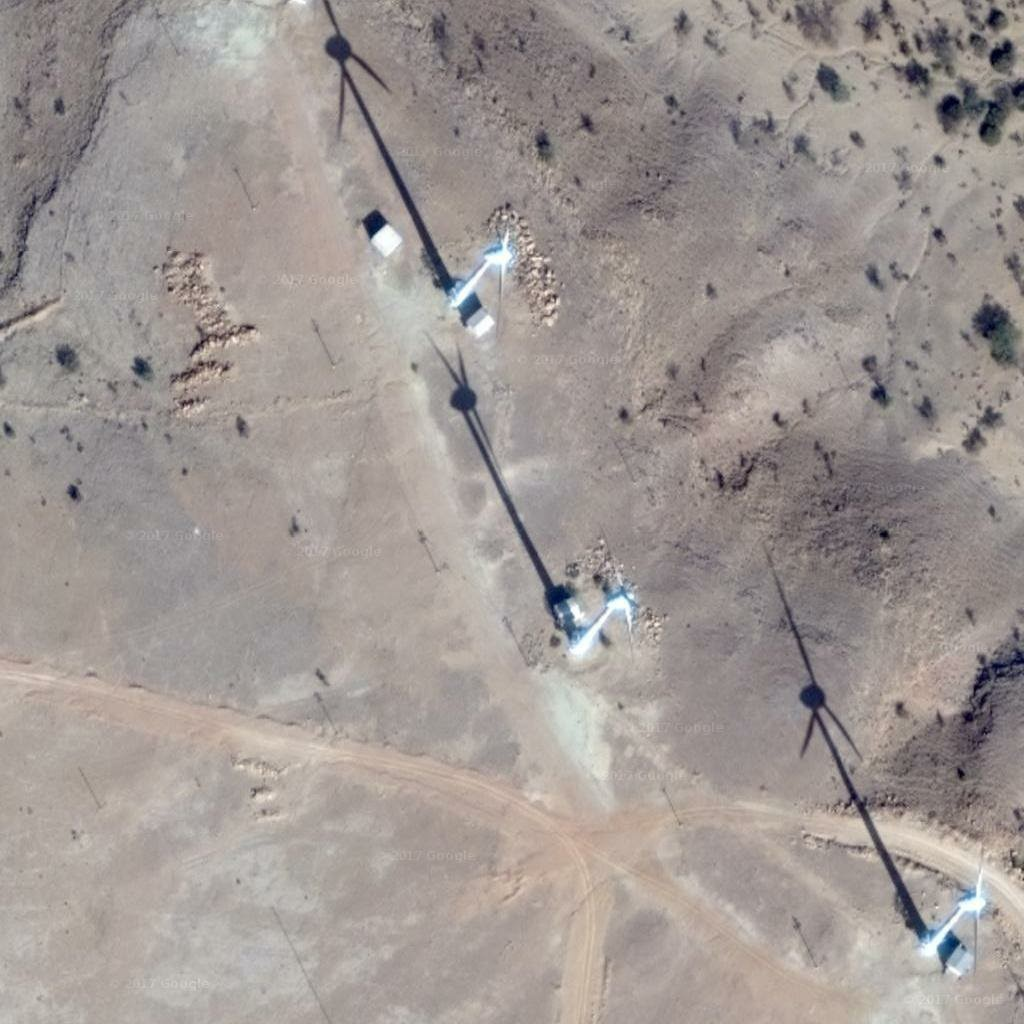Windmill: (291, 5, 459, 275)
